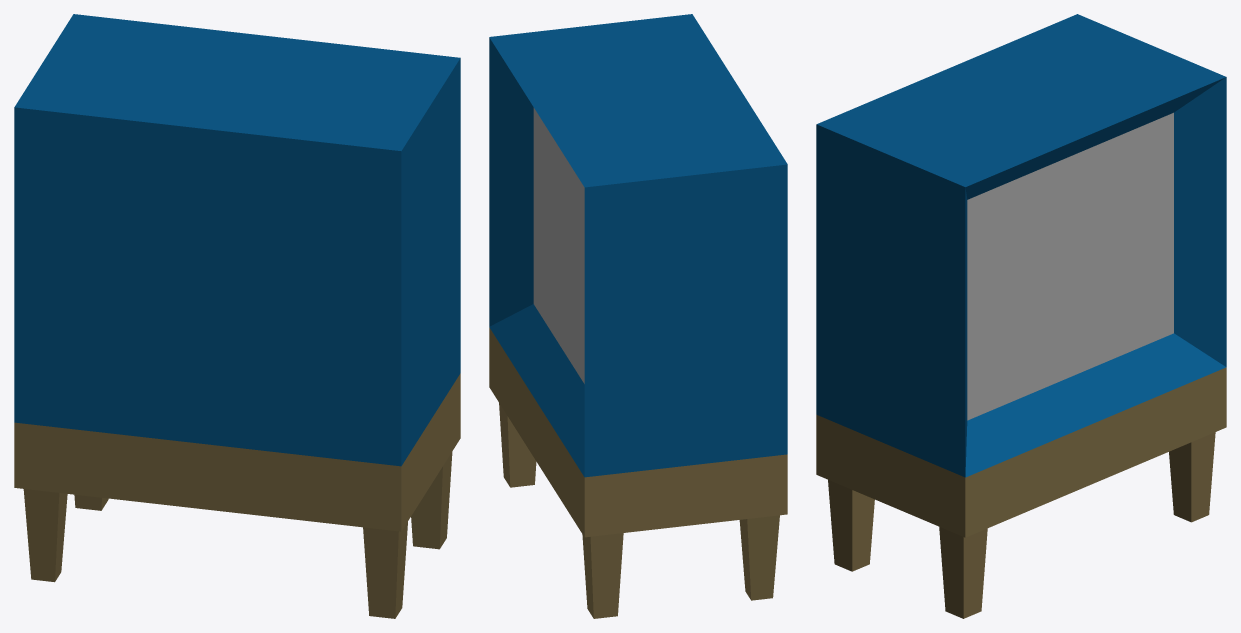
The picture shows the model from 3 angles, left to right: view 1: azimuth 30°, elevation 25°; view 2: azimuth 150°, elevation 25°; view 3: azimuth 270°, elevation 25°; orthographic projection. The views are drawn at different scales.
Parts seen in each view (by area): view 1: pCube1, pCube2, pCube5, pCube3; view 2: pCube1, pCube4, pCube5, pCube3; view 3: pCube1, pCube3, pCube2, pCube4.
Boxes of the visible parts, <box> form: pCube1: <box>14,14,460,531</box>; pCube2: <box>363,522,407,618</box>; pCube5: <box>23,489,67,582</box>; pCube3: <box>411,452,452,549</box>; pCube1: <box>489,14,787,537</box>; pCube4: <box>582,533,623,618</box>; pCube5: <box>739,515,779,600</box>; pCube3: <box>499,403,536,487</box>; pCube1: <box>816,14,1226,537</box>; pCube3: <box>939,527,987,618</box>; pCube2: <box>828,480,874,571</box>; pCube4: <box>1169,432,1215,522</box>.
Bounding box in the file's own units: 2.21 × 2.61 × 2.21.
